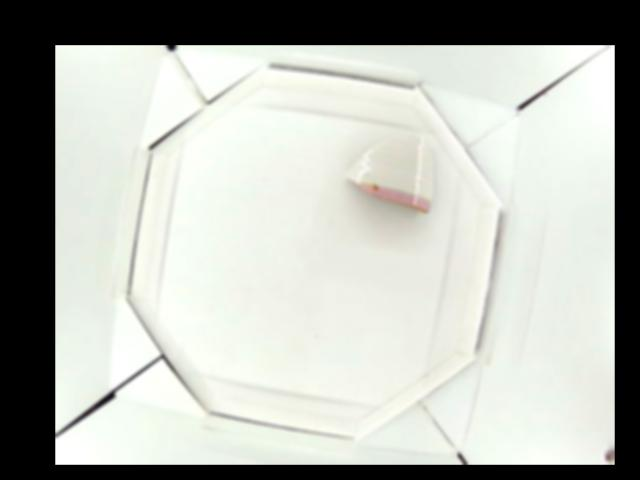China: (347, 135, 432, 213)
